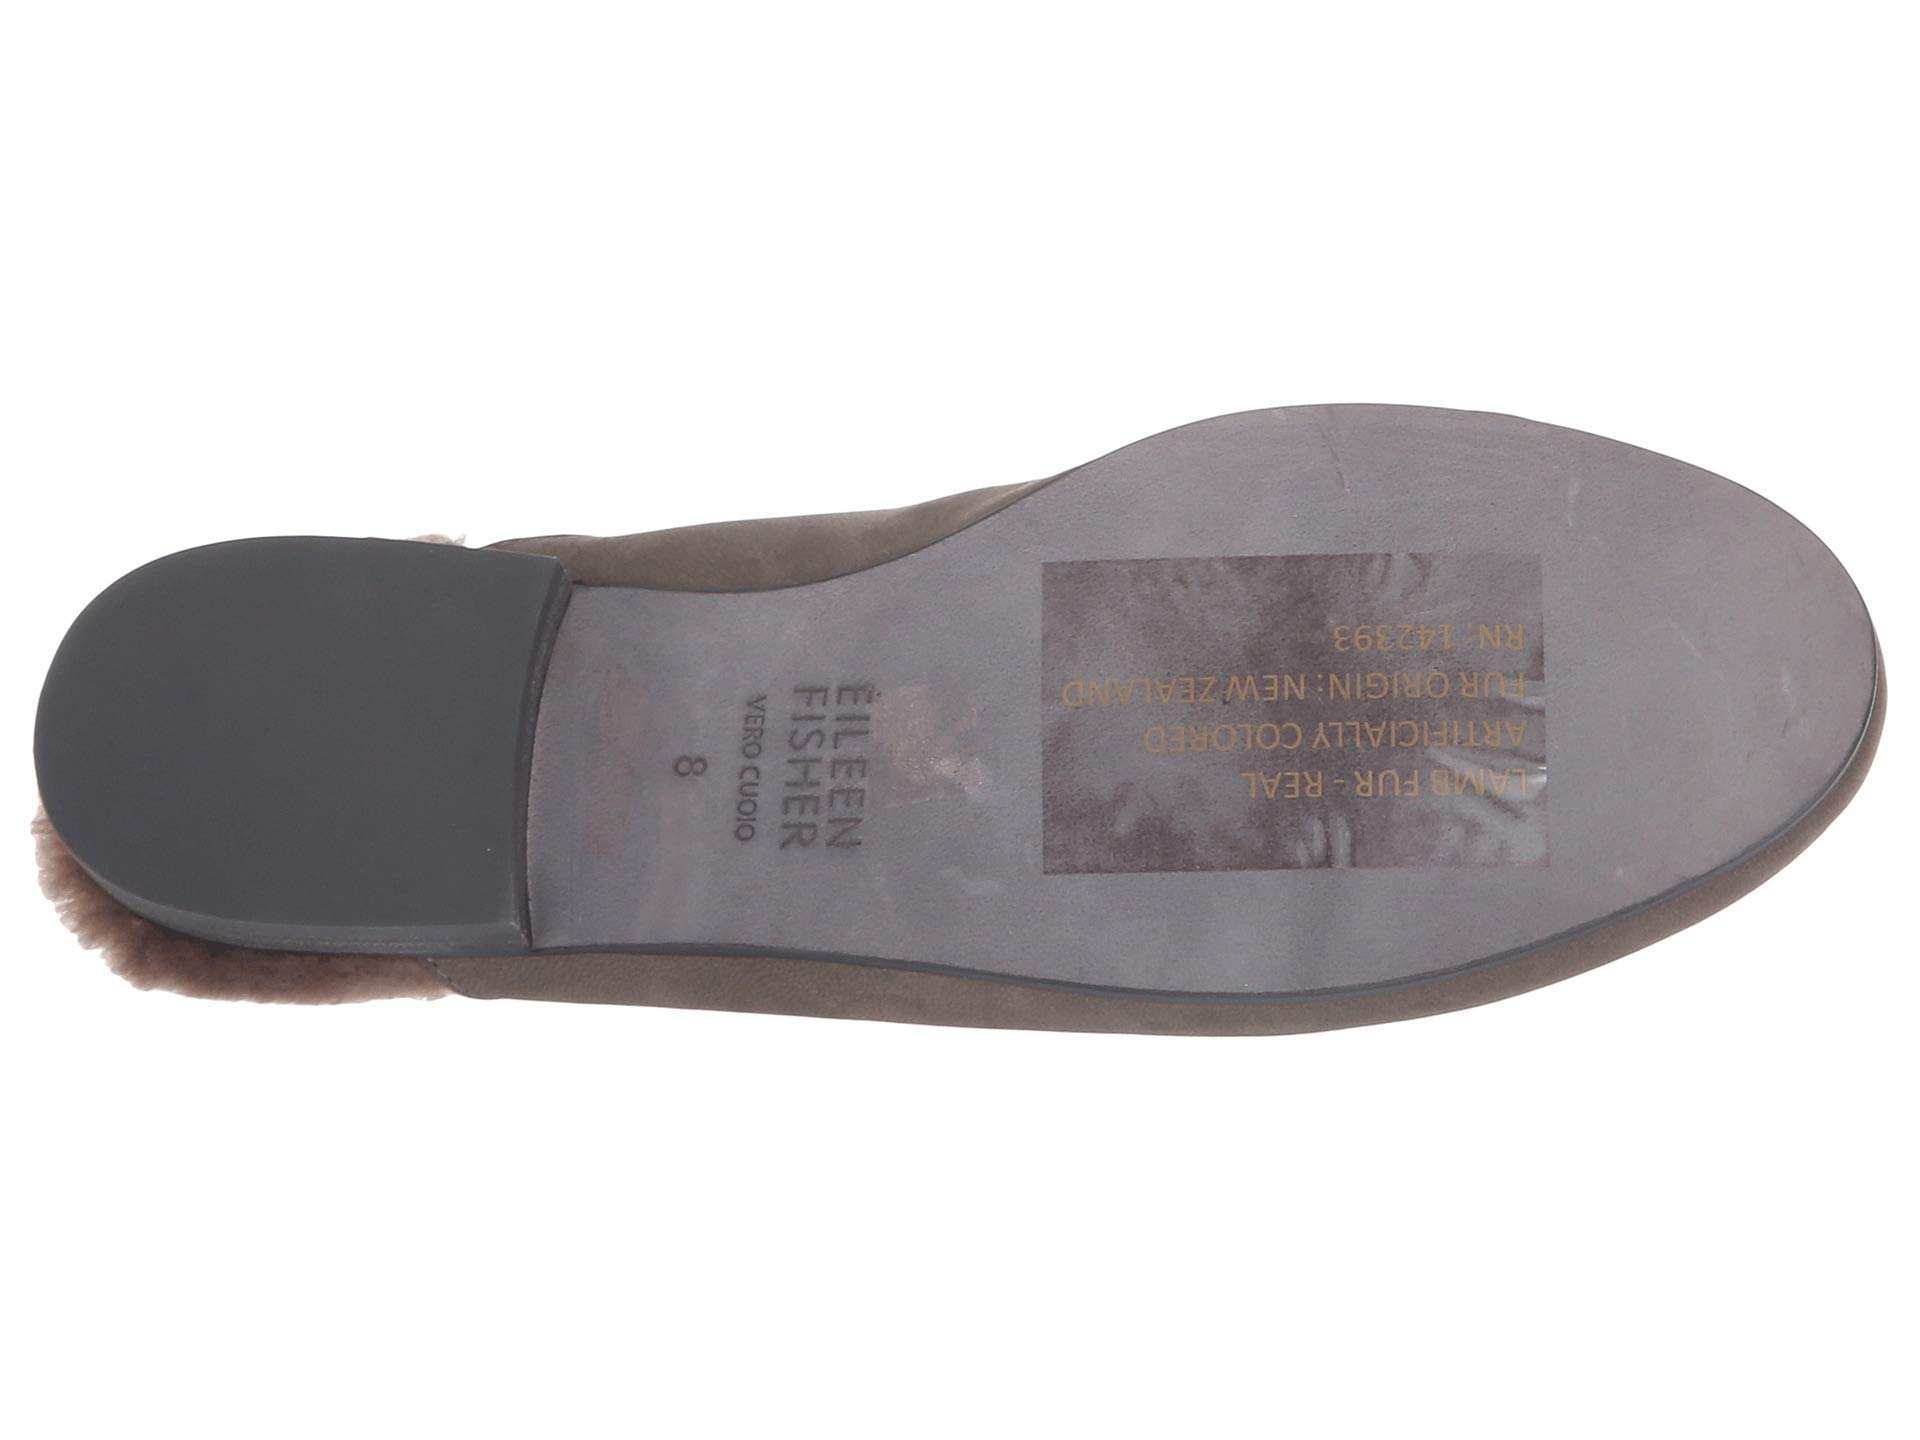circle: (599, 629, 927, 880)
exclude: (1017, 548, 1577, 880)
text: (599, 629, 927, 880)
